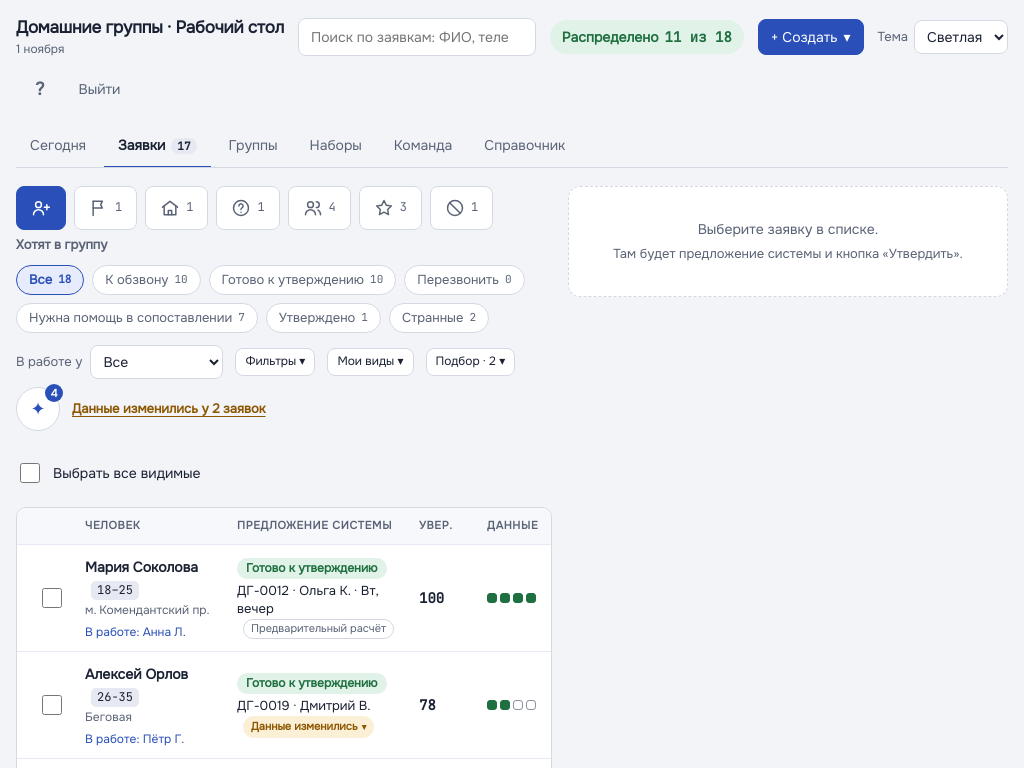
Test: «Заявки»: подбор для новых заявок › если подбор ещё не запускали, блок так и говорит
Step 1. Click the button "Подбор · 2 ▾" → (470, 362), box [426, 348, 515, 376]
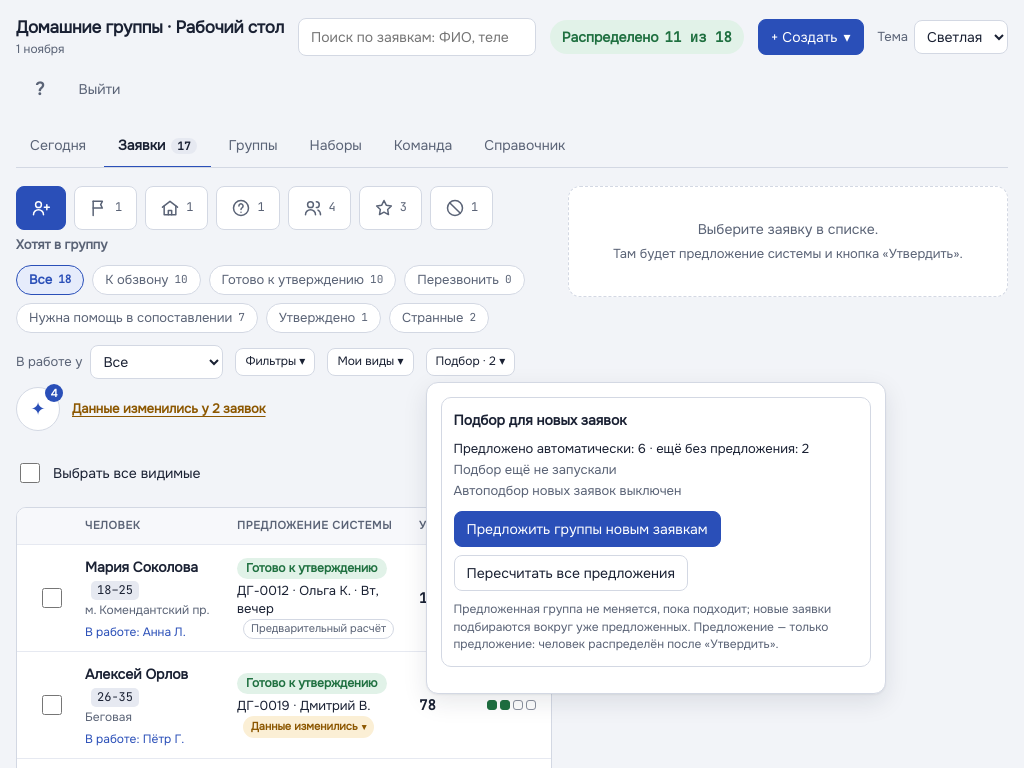
Expected: the text "Подбор ещё не запускали" is shown, [454, 461, 617, 480]
